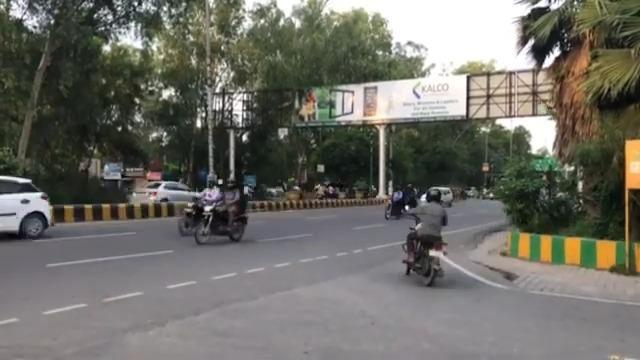Bike: (400, 186, 461, 286)
Car: (0, 174, 54, 239)
